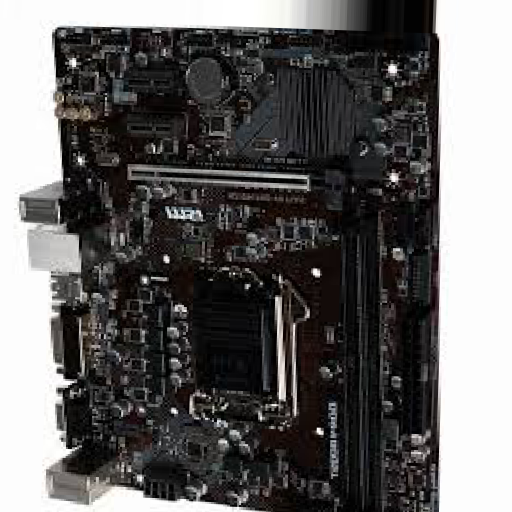CPU: (192, 266, 290, 427)
GPU: (126, 165, 344, 192)
MOTHERBOARD: (70, 28, 440, 512)
RAM: (335, 204, 388, 512)
